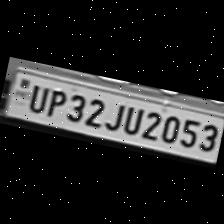0: (156, 108, 182, 142)
2: (80, 91, 108, 127), (136, 104, 162, 140)
3: (194, 117, 220, 152), (62, 87, 88, 121)
5: (175, 113, 201, 148)
J: (102, 96, 126, 131)
P: (42, 82, 68, 116)
U: (22, 79, 49, 113), (118, 100, 144, 134)
